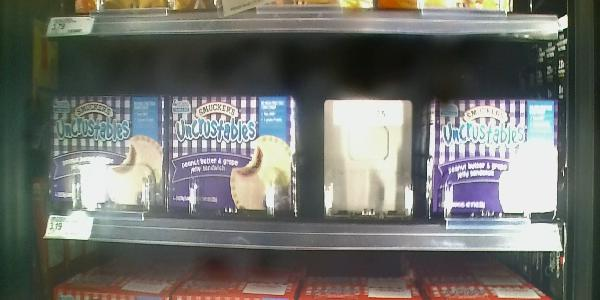icecream: (427, 96, 561, 224), (166, 93, 297, 221), (49, 94, 166, 218)
